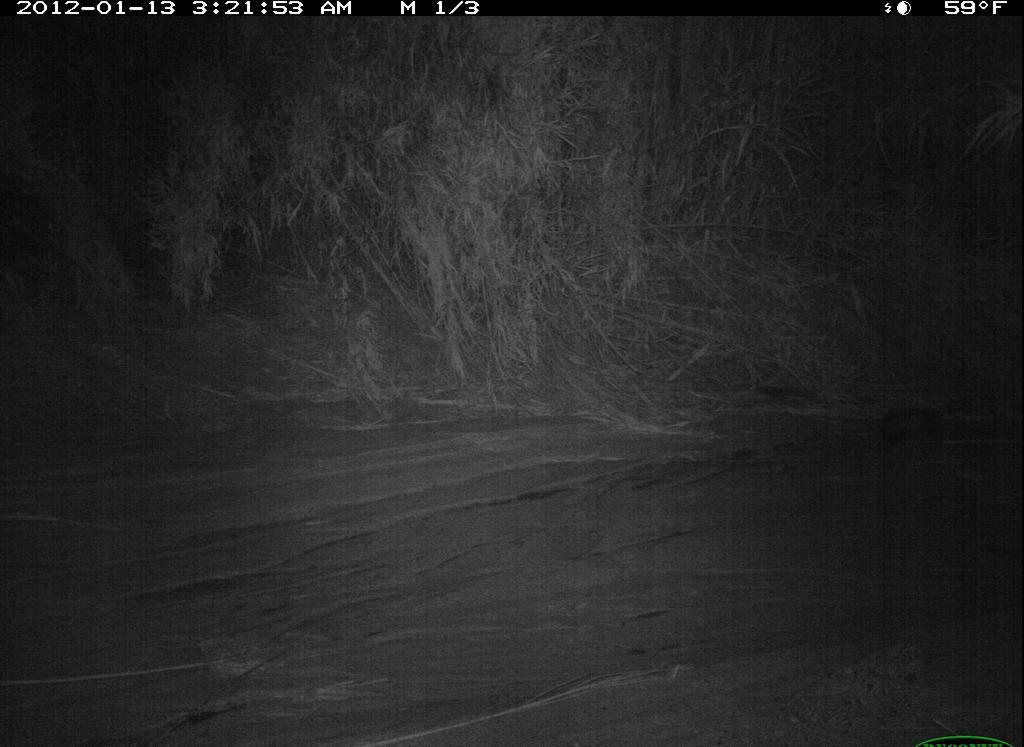opossum: (861, 396, 956, 455)
